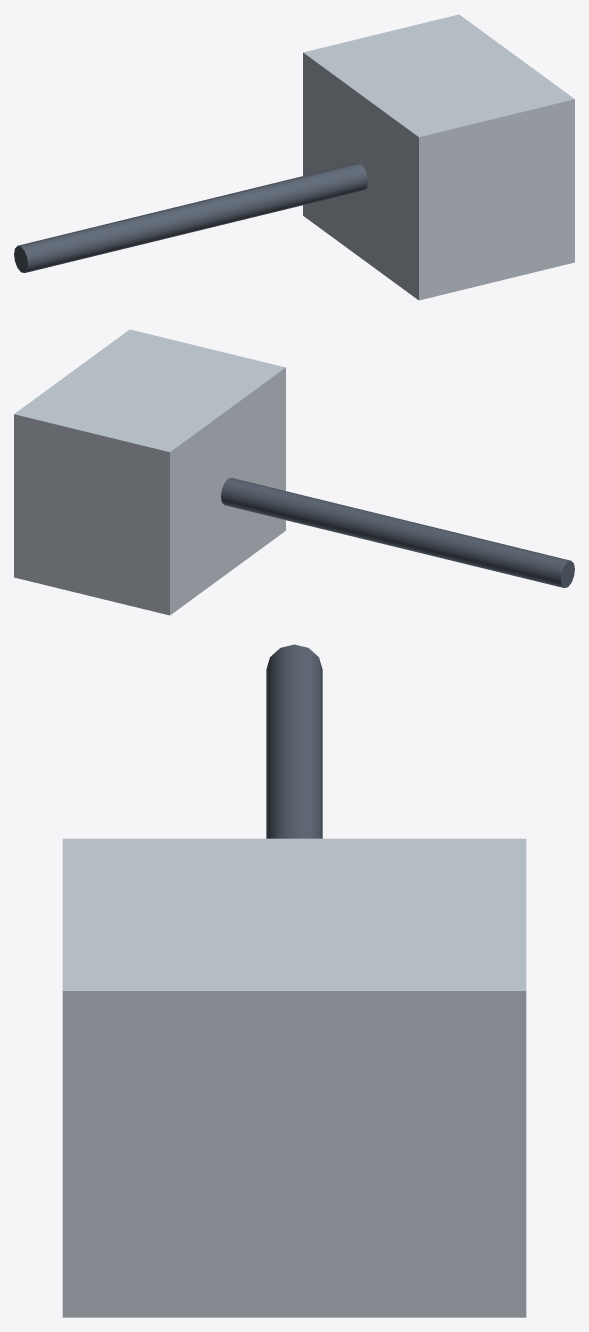
File: maul.glb
The picture shows the model from 3 angles, top to bottom: view 1: azimuth 30°, elevation 25°; view 2: azimuth 150°, elevation 25°; view 3: azimuth 270°, elevation 25°; orthographic projection. The views are drawn at different scales.
Parts seen in each view (by area): view 1: head, grip; view 2: head, grip; view 3: head, grip.
Boxes of the visible parts, x1,y1,x2,y2 form: head: (303, 14, 574, 300); grip: (14, 163, 367, 272); head: (14, 329, 285, 615); grip: (221, 478, 574, 587); head: (62, 838, 526, 1317); grip: (266, 644, 322, 838).
Size of the model in its own units: 0.89 by 0.28 by 0.36.
